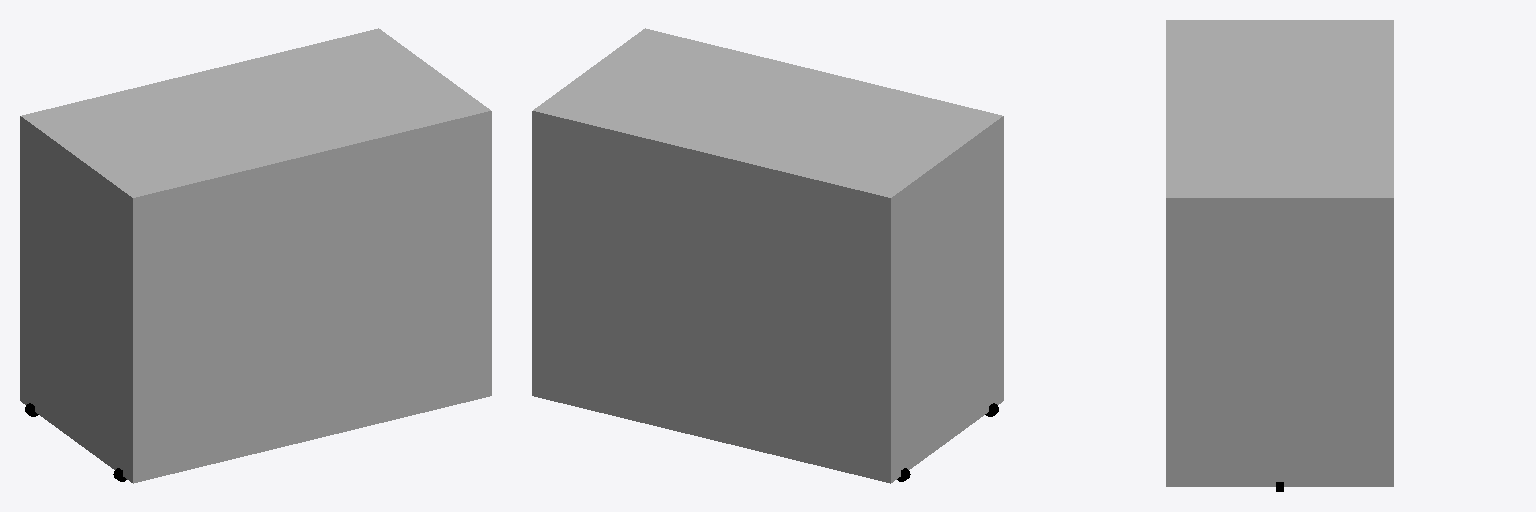
URDF robot description (tortoisebot):
<?xml version="1.0"?>
<robot name="tortoisebot">
  <link name="base_link">
    <visual>
      <geometry>
        <!-- l w h 2.337 1.27 1.778-->
        <box size="2.337 1.27 1.778"/>
      </geometry>
      <material name="silver">
        <color rgba="0.75 0.75 0.75 1"/>
      </material>
    </visual>
    <collision>
      <geometry>
        <box size="2.337 1.27 1.778"/>
      </geometry>
    </collision>
    <inertial>
      <mass value="1.0"/>
      <inertia ixx="0.015" iyy="0.0375" izz="0.0375"
               ixy="0" ixz="0" iyz="0"/>
    </inertial>
  </link>

  <link name="front_caster">
    <visual>
      <geometry>
        <box size="0.1 0.1 0.3"/>
      </geometry>
      <material name="silver"/>
    </visual>
    <collision>
      <geometry>
        <box size="0.1 0.1 0.3"/>
      </geometry>
    </collision>
    <inertial>
      <mass value="0.1"/>
      <inertia ixx="0.00083" iyy="0.00083" izz="0.000167"
               ixy="0" ixz="0" iyz="0"/>
    </inertial>
  </link>
  <joint name="front_caster_joint" type="revolute">
    <limit effort="30" velocity="0.5" lower="-0.785398" upper="0.785398" />
    <axis xyz="0 0 1"/>
    <parent link="base_link"/>
    <child link="front_caster"/>
    <origin rpy="0 0 0" xyz="1.1 0 -0.739"/>
  </joint>

  <link name="front_wheel">
    <visual>
      <geometry>
        <cylinder length="0.05" radius="0.035"/>
      </geometry>
      <material name="black"/>
    </visual>
    <collision>
      <geometry>
        <cylinder length="0.05" radius="0.035"/>
      </geometry>
    </collision>
    <inertial>
      <mass value="0.1"/>
      <inertia ixx="5.1458e-5" iyy="5.1458e-5" izz="6.125e-5"
               ixy="0" ixz="0" iyz="0"/>
    </inertial>
  </link>
  <joint name="front_wheel_joint" type="continuous">
    <axis xyz="0 0 1"/>
    <parent link="front_caster"/>
    <child link="front_wheel"/>
    <origin rpy="-1.5708 0 0" xyz="0.05 0 -.15"/>
  </joint>

  <link name="right_wheel">
    <visual>
      <geometry>
        <cylinder length="0.05" radius="0.035"/>
      </geometry>
      <material name="black">
        <color rgba="0 0 0 1"/>
      </material>
    </visual>
    <collision>
      <geometry>
        <cylinder length="0.05" radius="0.035"/>
      </geometry>
    </collision>
    <inertial>
      <mass value="0.1"/>
      <inertia ixx="5.1458e-5" iyy="5.1458e-5" izz="6.125e-5"
               ixy="0" ixz="0" iyz="0"/>
    </inertial>
  </link>
  <joint name="right_wheel_joint" type="continuous">
    <axis xyz="0 0 1"/>
    <parent link="base_link"/>
    <child link="right_wheel"/>
    <origin rpy="-1.5708 0 0" xyz="-1.1685 -0.5 -0.889"/>
  </joint>
  <link name="left_wheel">
    <visual>
      <geometry>
        <cylinder length="0.05" radius="0.035"/>
      </geometry>
      <material name="black"/>
    </visual>
    <collision>
      <geometry>
        <cylinder length="0.05" radius="0.035"/>
      </geometry>
    </collision>
    <inertial>
      <mass value="0.1"/>
      <inertia ixx="5.1458e-5" iyy="5.1458e-5" izz="6.125e-5"
               ixy="0" ixz="0" iyz="0"/>
    </inertial>
  </link>
  <joint name="left_wheel_joint" type="continuous">
    <axis xyz="0 0 1"/>
    <parent link="base_link"/>
    <child link="left_wheel"/>
    <origin rpy="-1.5708 0 0" xyz="-1.1685 0.5 -0.889"/>
  </joint>

  <gazebo>
    <plugin name="differential_drive_controller"
            filename="libgazebo_ros_diff_drive.so">
      <leftJoint>left_wheel_joint</leftJoint>
      <rightJoint>right_wheel_joint</rightJoint>
      <robotBaseFrame>base_link</robotBaseFrame>
      <wheelSeparation>1.0</wheelSeparation>
      <wheelDiameter>0.07</wheelDiameter>
      <publishWheelJointState>true</publishWheelJointState>
    </plugin>
  </gazebo>

  <gazebo>
    <plugin name="joint_state_publisher"
            filename="libgazebo_ros_joint_state_publisher.so">
      <jointName>front_caster_joint, front_wheel_joint</jointName>
    </plugin>
  </gazebo>

</robot>

--- Render facts (derived) ---
3 views of the same robot in one strip: view 1: azimuth 30°, elevation 25°; view 2: azimuth 150°, elevation 25°; view 3: azimuth 270°, elevation 25° (orthographic).
Model tortoisebot with 5 links and 4 joints (1 revolute, 3 continuous), rooted at base_link, posed all joints at 0.
Links seen in each view (by area): view 1: base_link; view 2: base_link; view 3: base_link.
Boxes of the visible links, x1,y1,x2,y2 form: base_link: (20,28,491,483); base_link: (532,28,1003,483); base_link: (1166,20,1393,486).
Size in the robot's own frame: 2.39 by 1.27 by 1.81 metres.
Geometry: primitives only (box / cylinder / sphere), no mesh files.